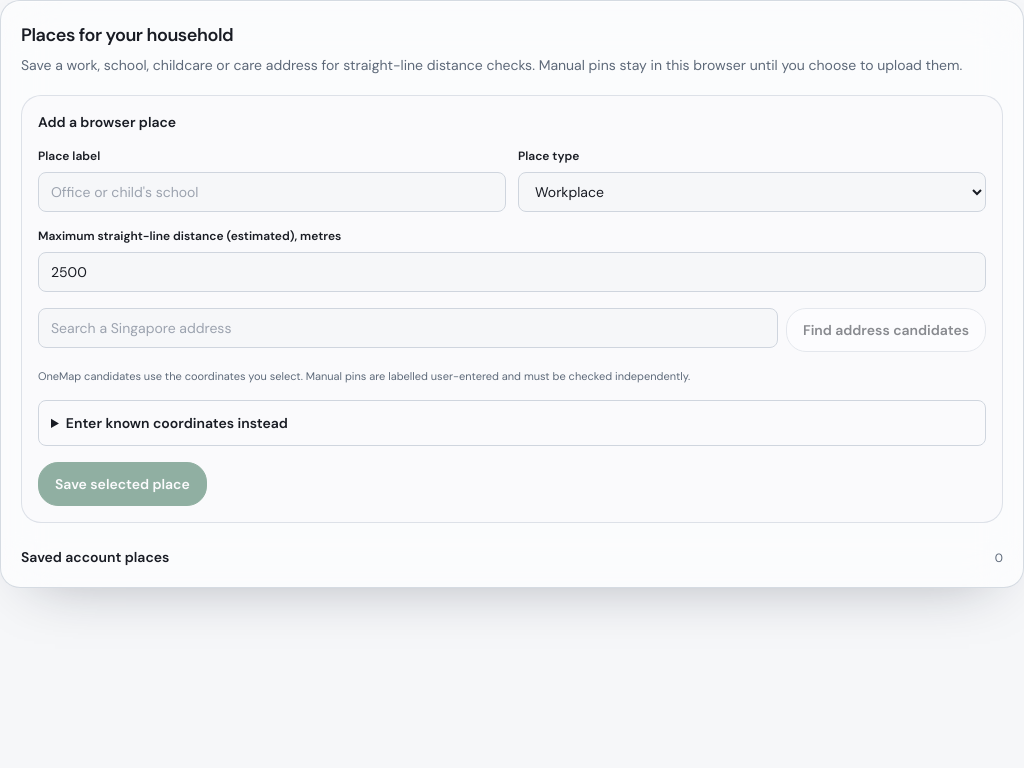
Test: family place management and filtering › keeps place management safe while signed out
Expected: the heading "Add a browser place" is shown, [38, 113, 176, 131]
Type "Harbour Road" into the field named "Search an address" at (408,328), box [38, 308, 778, 348]
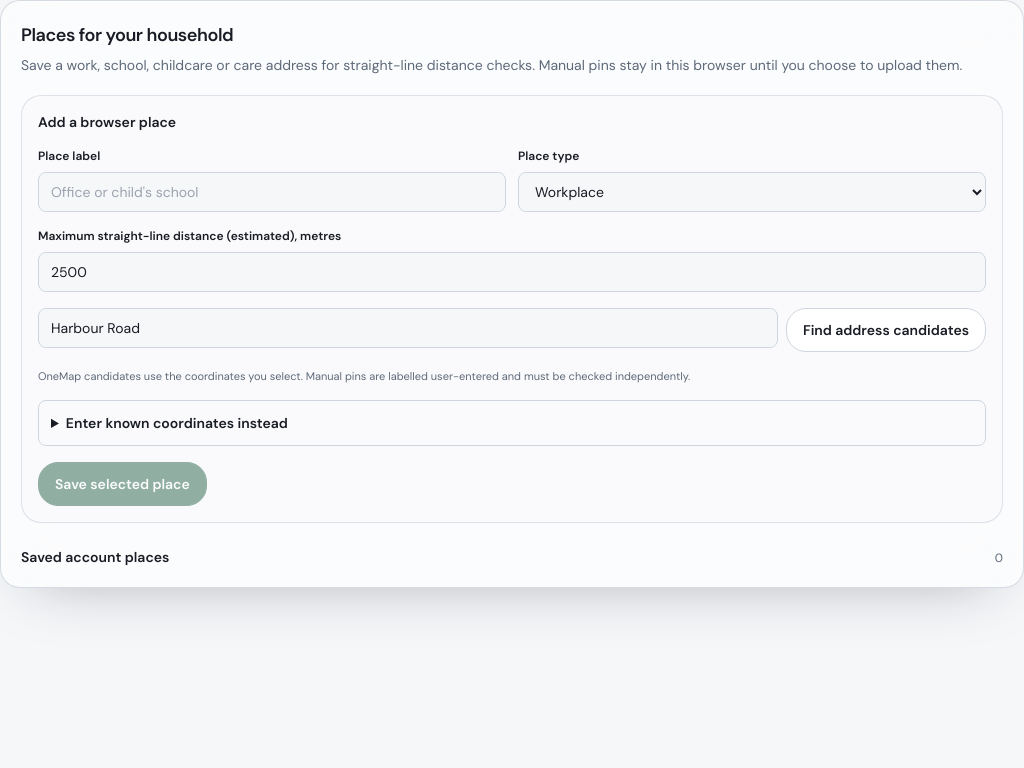
Expected: the button "Find address candidates" is enabled, [786, 308, 986, 352]
